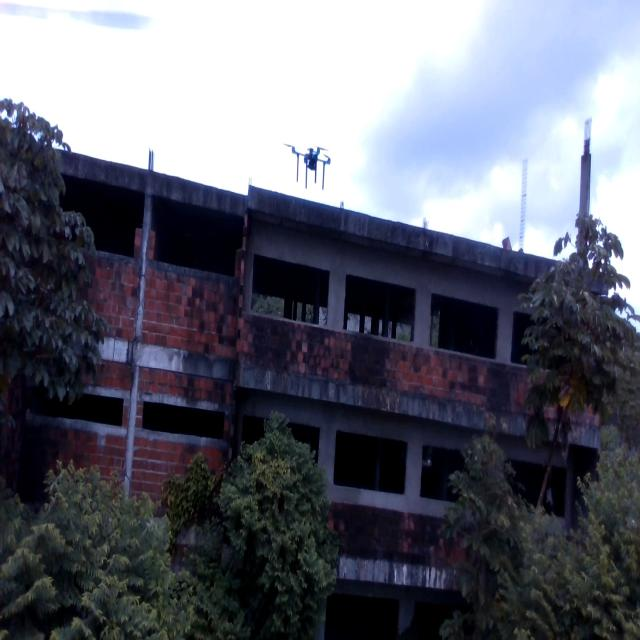-uav-: (283, 129, 340, 194)
